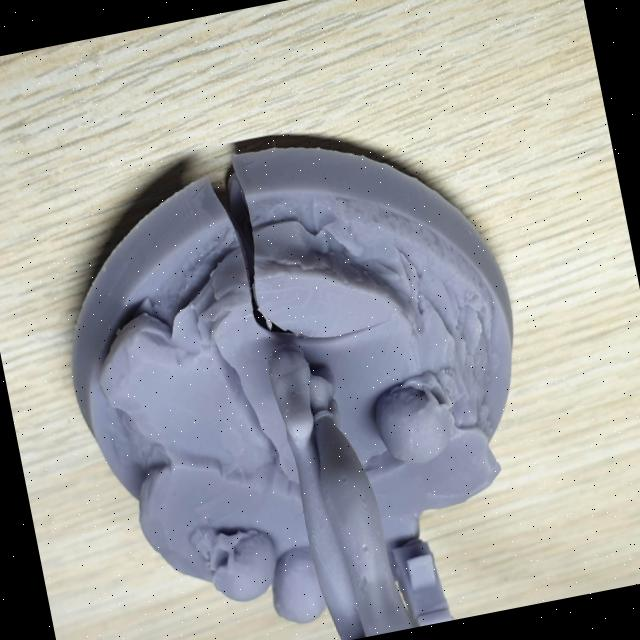cracks: (194, 139, 364, 384)
